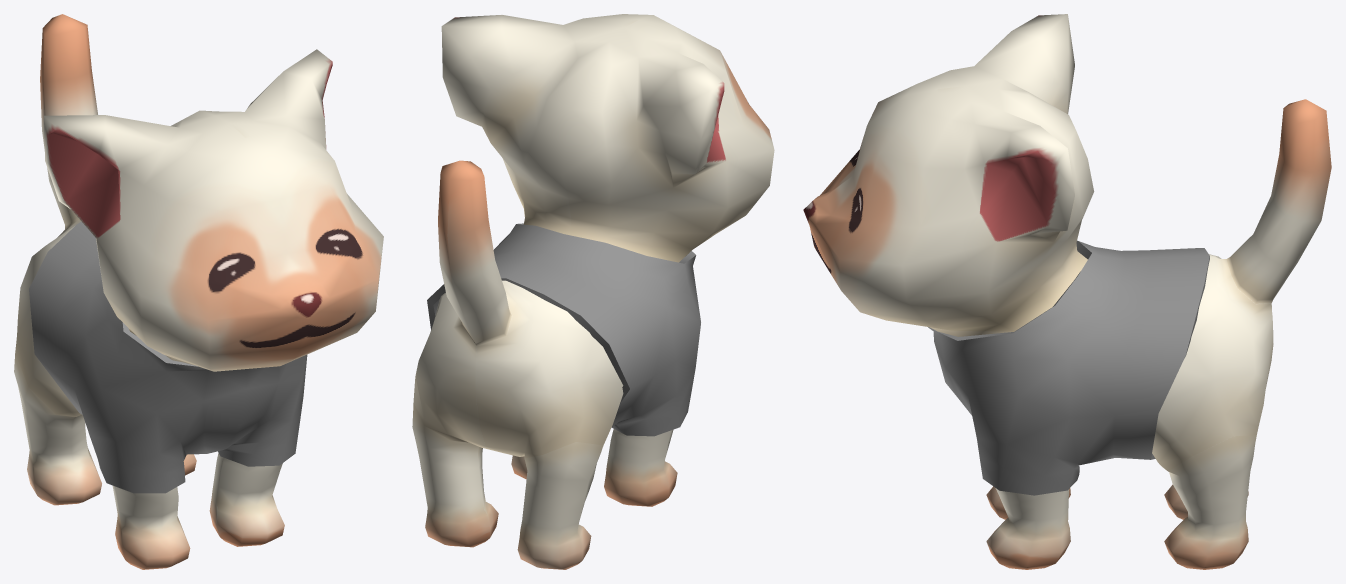
The model's file is USG Cat02.fbx.
3 renders of one model, left to right at view 1: azimuth 30°, elevation 25°; view 2: azimuth 150°, elevation 25°; view 3: azimuth 270°, elevation 25°, orthographic. The views are drawn at different scales.
Visible parts, largest first — view 1: Cat_Base001, tshirt001; view 2: Cat_Base001, tshirt001; view 3: Cat_Base001, tshirt001.
Boxes of the visible parts, x1,y1,x2,y2 form: Cat_Base001: (14, 14, 383, 569); tshirt001: (29, 221, 307, 493); Cat_Base001: (412, 14, 774, 569); tshirt001: (427, 223, 700, 436); Cat_Base001: (803, 14, 1331, 569); tshirt001: (928, 240, 1209, 495).
Bounding box in the file's own units: 1.75 × 2.83 × 2.68.
2 materials, 1 textured.
